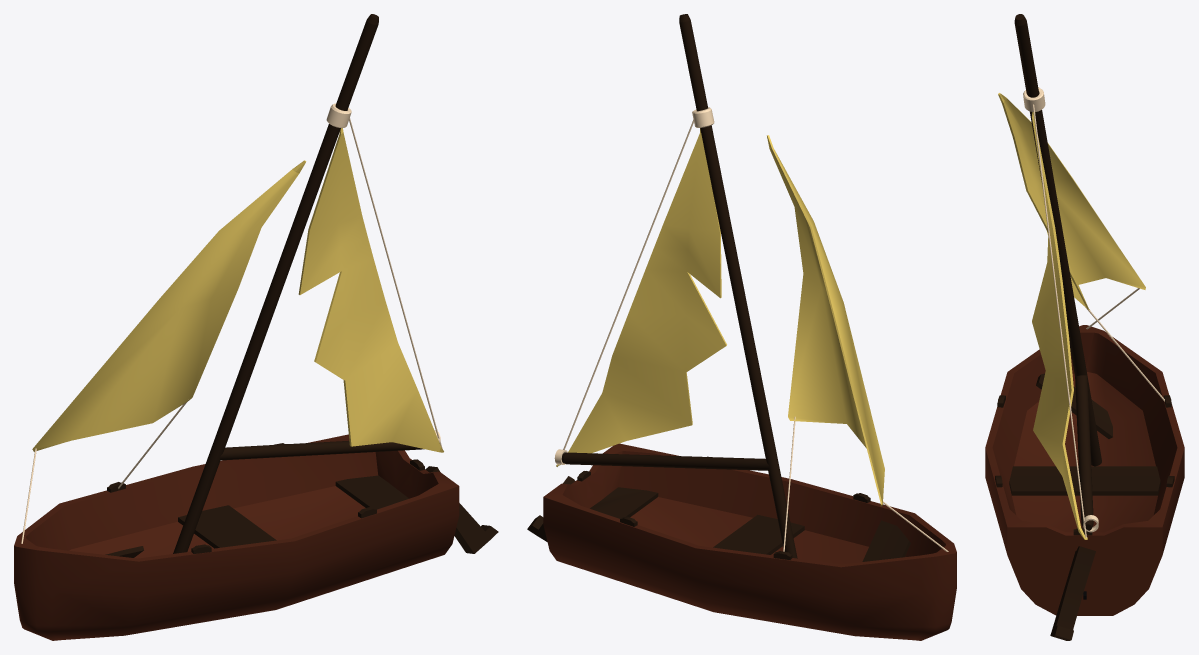
File: boatwrecked.FBX
3 renders of one model, left to right at view 1: azimuth 30°, elevation 25°; view 2: azimuth 150°, elevation 25°; view 3: azimuth 270°, elevation 25°, orthographic. The views are drawn at different scales.
Visible parts, largest first — view 1: hull005; view 2: hull005; view 3: hull005.
Boxes of the visible parts, x1,y1,x2,y2 form: hull005: (14,14,498,640); hull005: (527,14,956,640); hull005: (985,14,1184,640).
Size of the model in its own units: 113 by 135 by 42.63.
